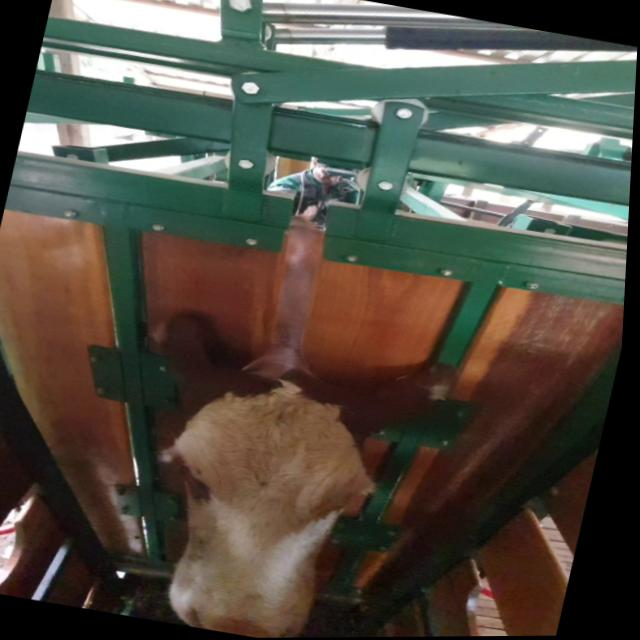cowFace: (144, 370, 391, 639)
